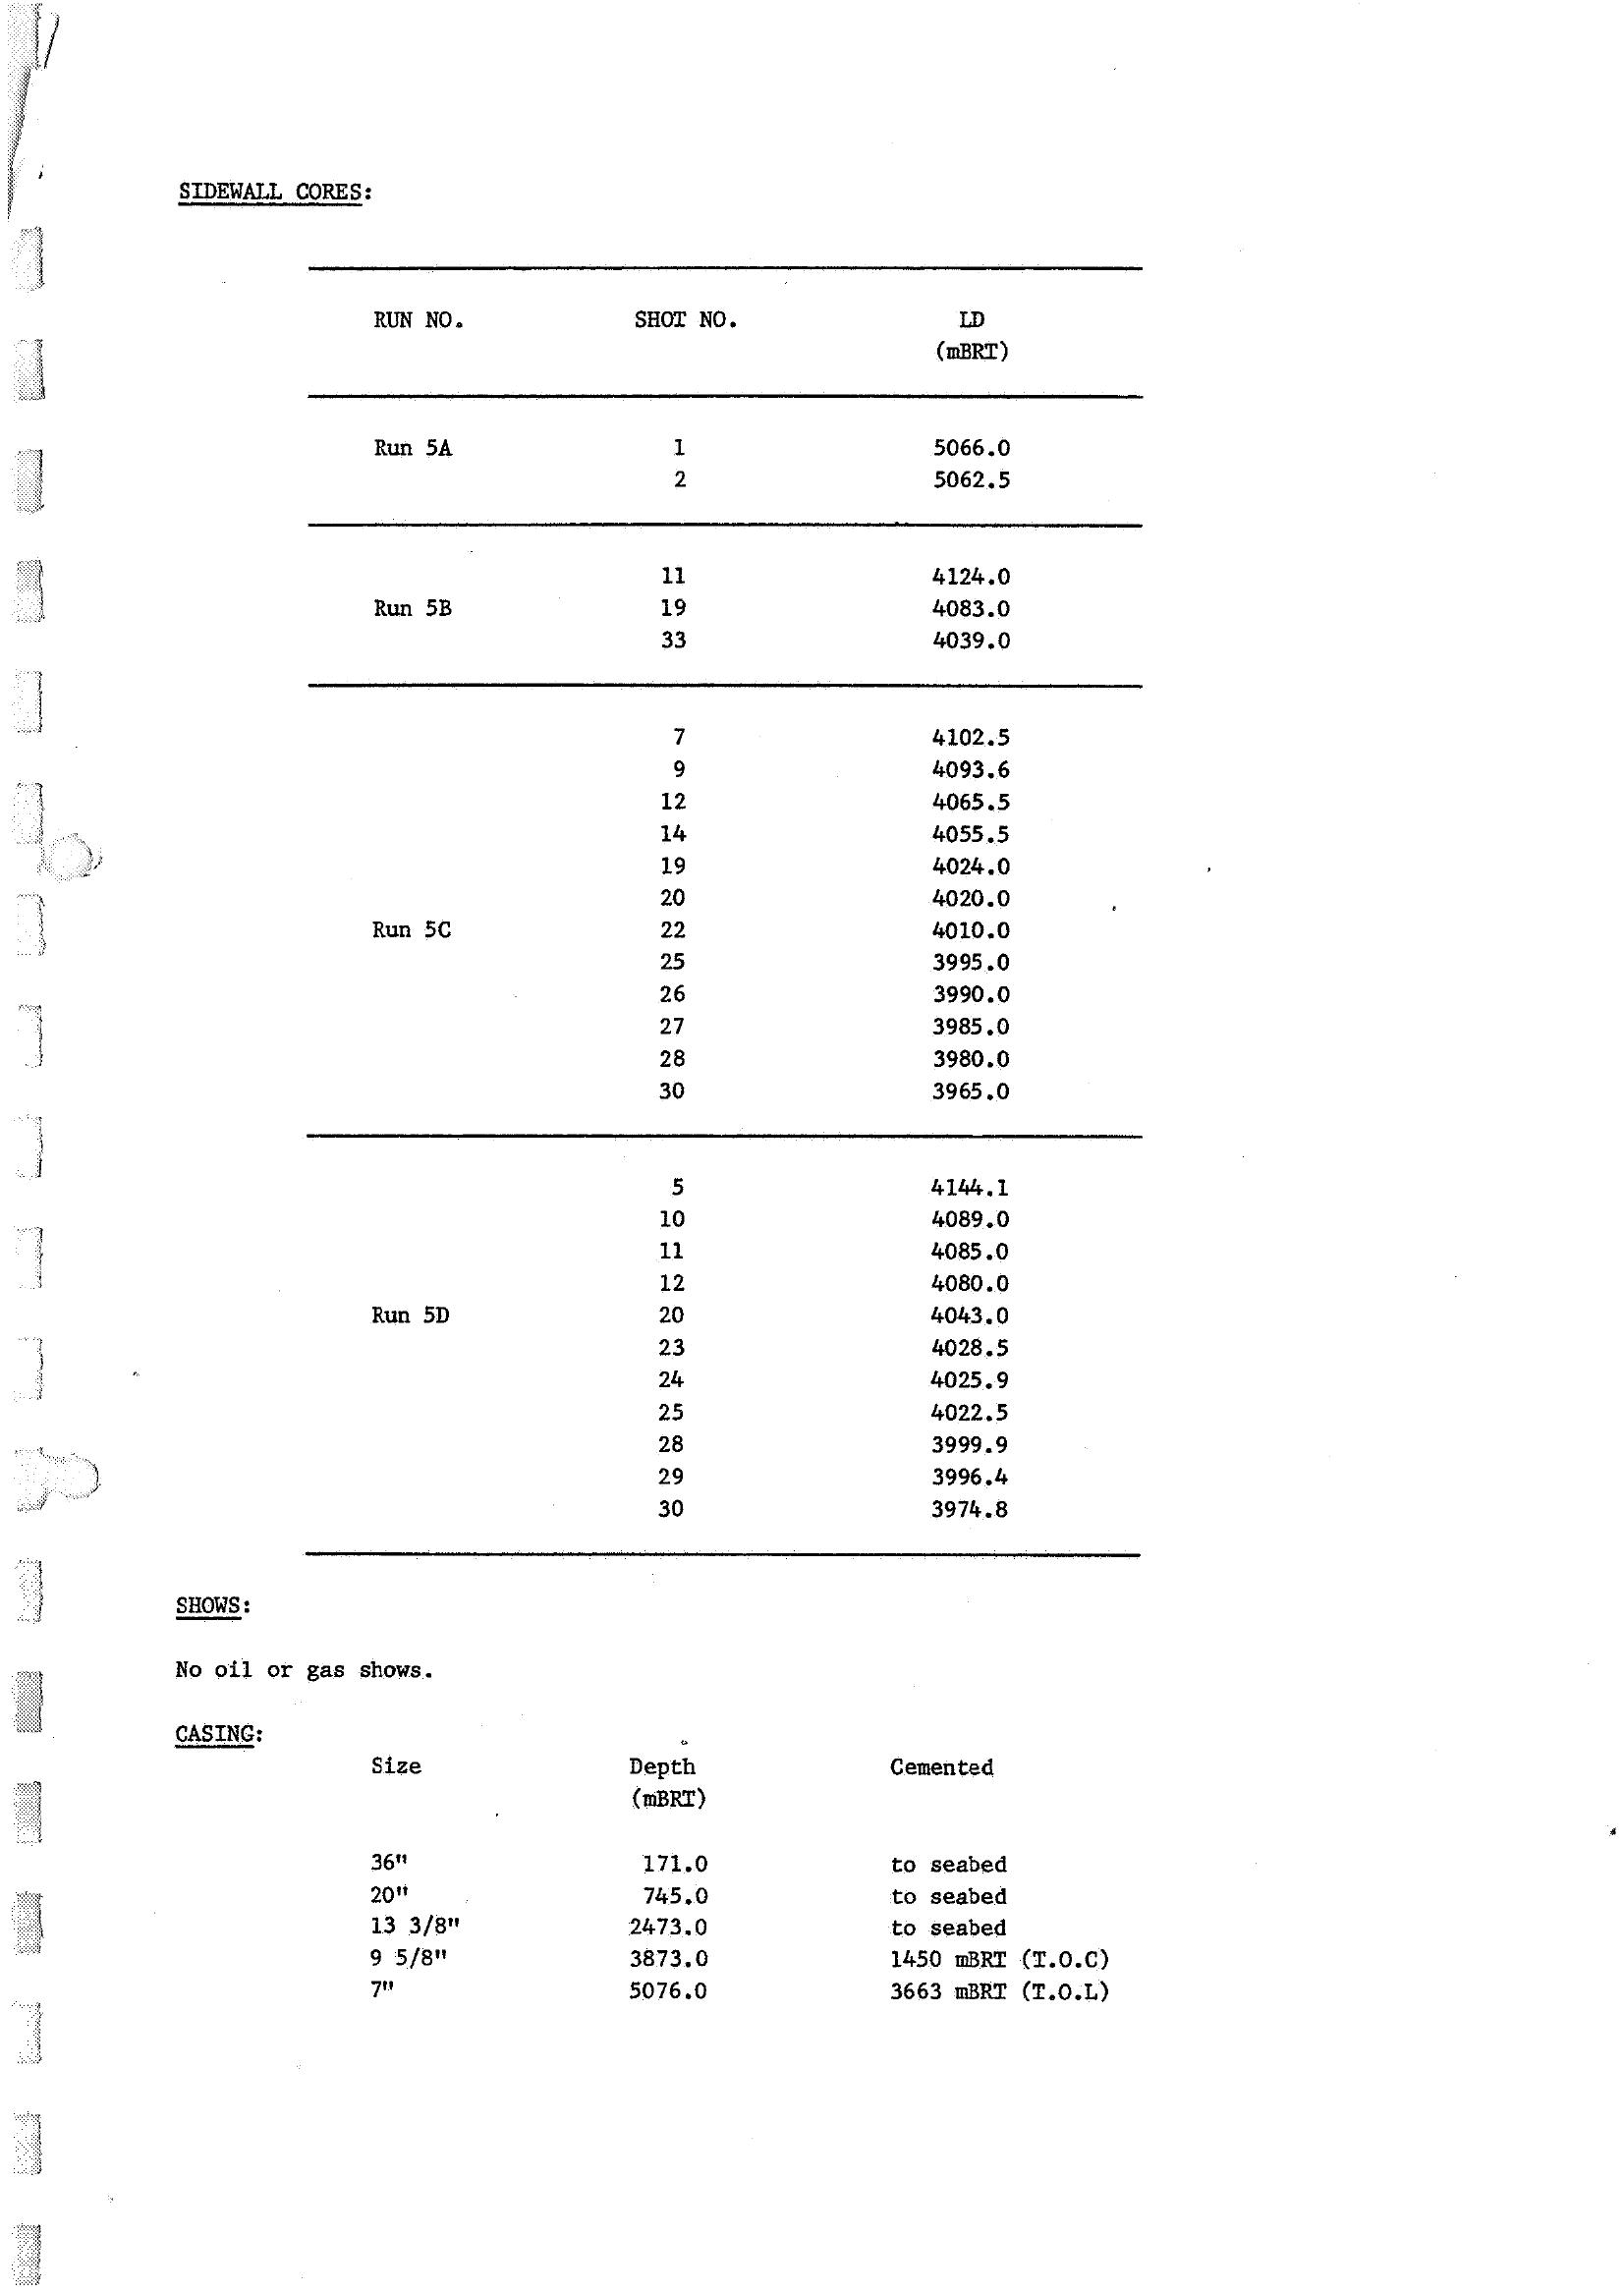table: (163, 169, 1202, 1576), (172, 1701, 1165, 2031)
text: (165, 1594, 460, 1692)
